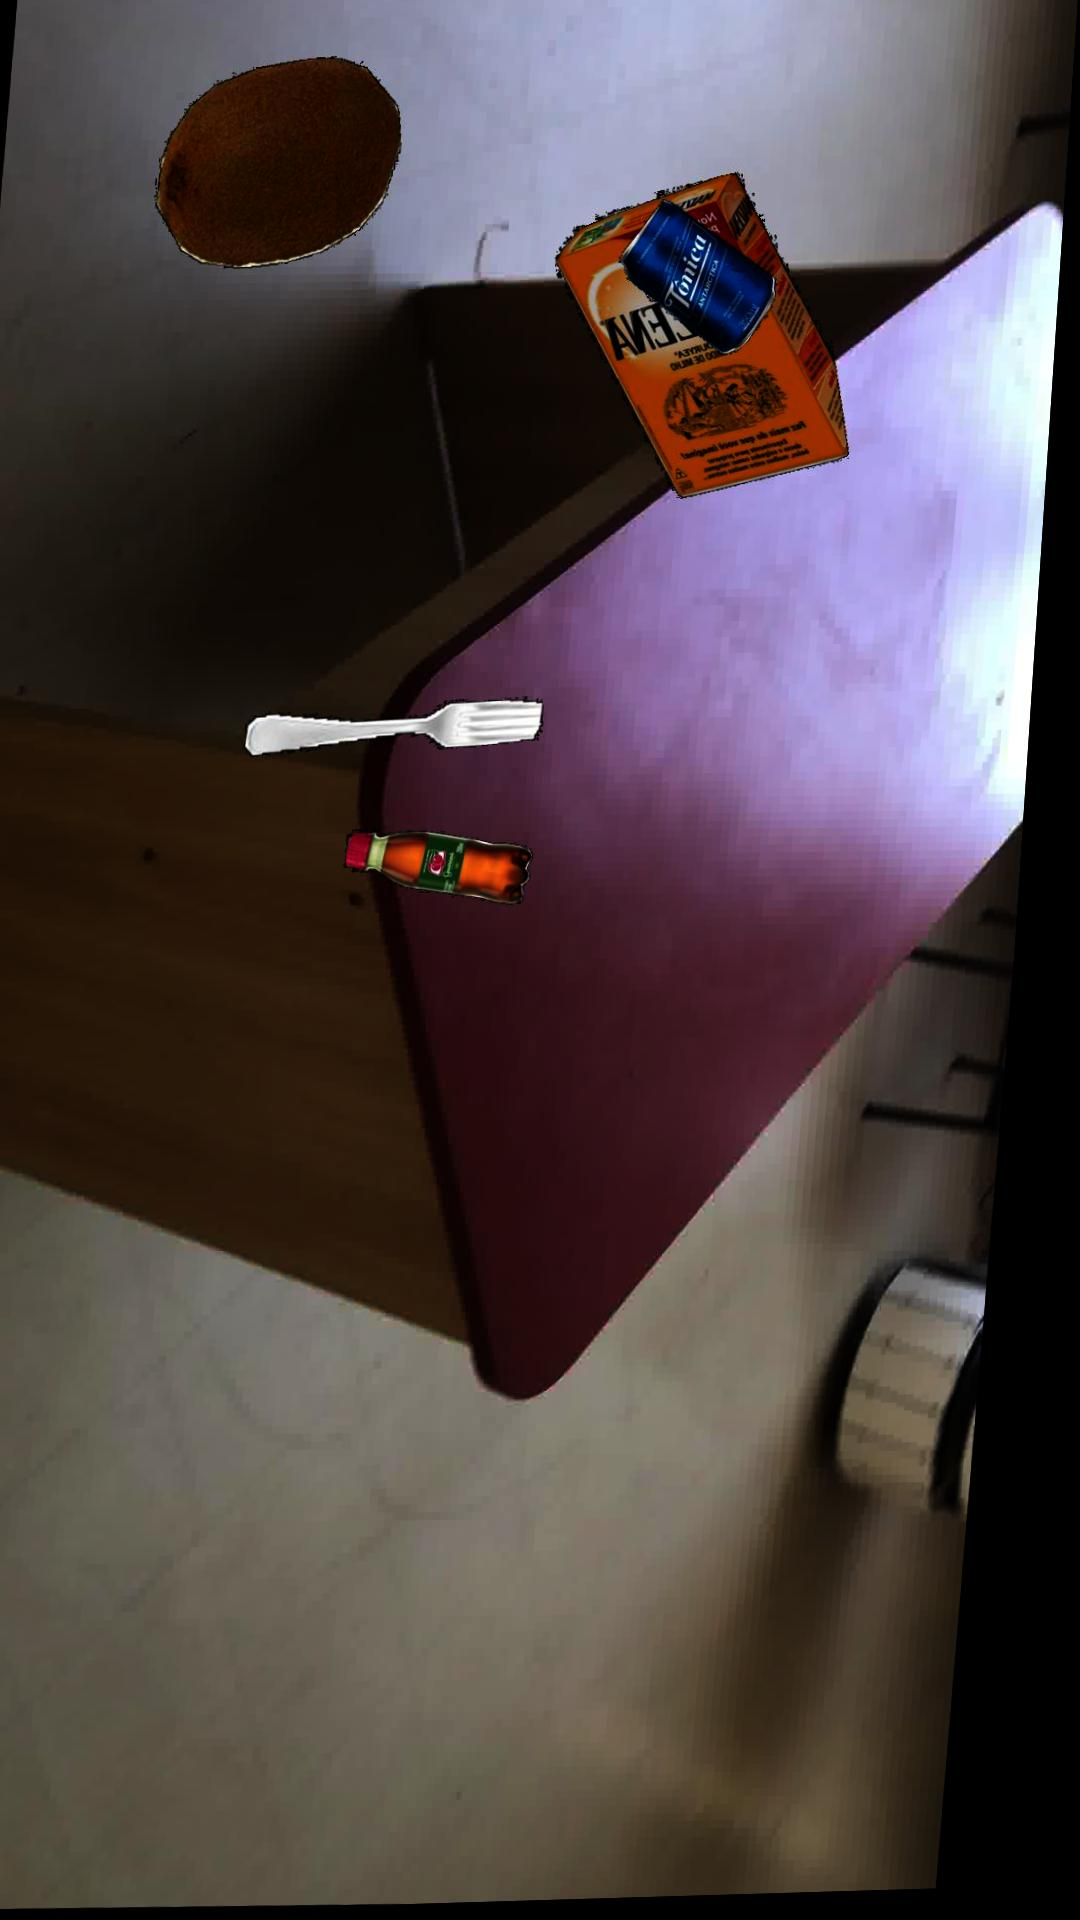fork: (253, 700, 551, 757)
guarana: (355, 831, 543, 907)
kiwi: (157, 57, 401, 269)
tonic: (621, 202, 779, 357)
